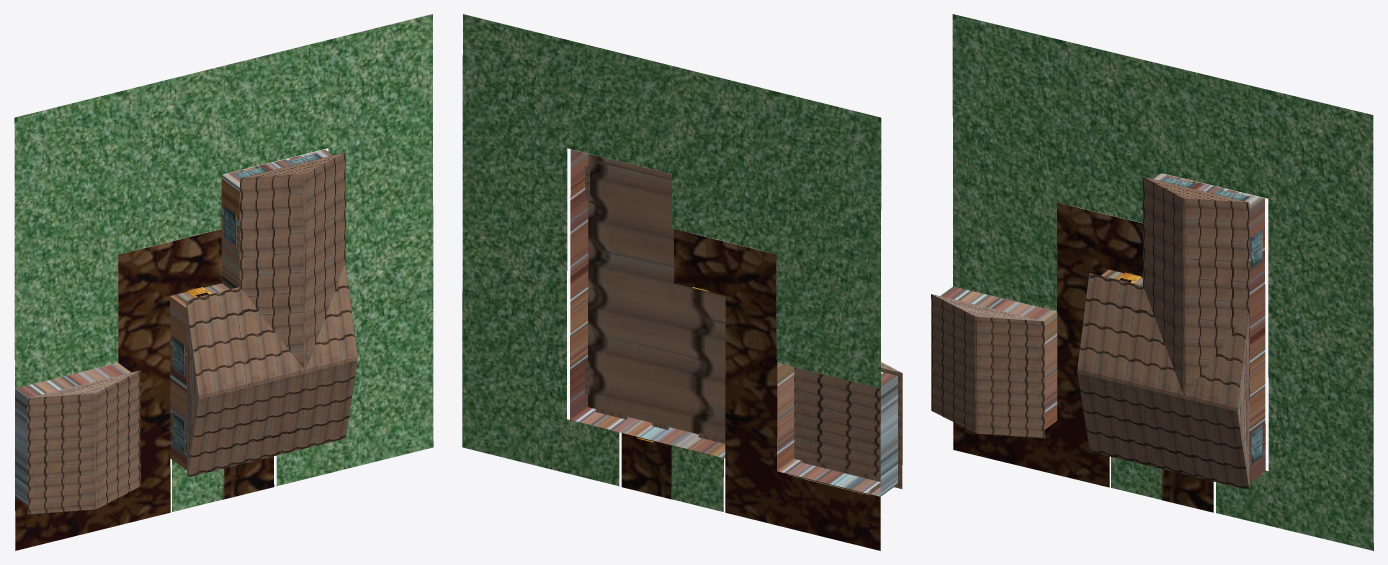
The model's file is houseLR_wtf.obj.
The picture shows the model from 3 angles, left to right: view 1: azimuth 30°, elevation 25°; view 2: azimuth 150°, elevation 25°; view 3: azimuth 330°, elevation 25°; orthographic projection.
Visible parts, largest first — view 1: group3, group4, group5, group6, group7, group10; view 2: group3, group4, group5, group6, group7; view 3: group3, group4, group5, group6, group7, group10.
Boxes of the visible parts, left/top/right/bottom form: group3: left=14, top=14, right=433, bottom=511; group4: left=27, top=152, right=357, bottom=514; group5: left=15, top=229, right=274, bottom=550; group6: left=15, top=175, right=239, bottom=505; group7: left=15, top=149, right=332, bottom=398; group10: left=172, top=153, right=322, bottom=453; group3: left=462, top=14, right=881, bottom=511; group4: left=584, top=154, right=902, bottom=494; group5: left=621, top=229, right=880, bottom=550; group6: left=570, top=149, right=897, bottom=496; group7: left=570, top=149, right=901, bottom=496; group3: left=952, top=14, right=1373, bottom=550; group4: left=931, top=177, right=1250, bottom=489; group5: left=953, top=202, right=1213, bottom=512; group6: left=1044, top=198, right=1265, bottom=487; group7: left=932, top=173, right=1264, bottom=321; group10: left=1160, top=176, right=1262, bottom=465.
Bounding box in the file's own units: 660 × 648 × 83.5.
